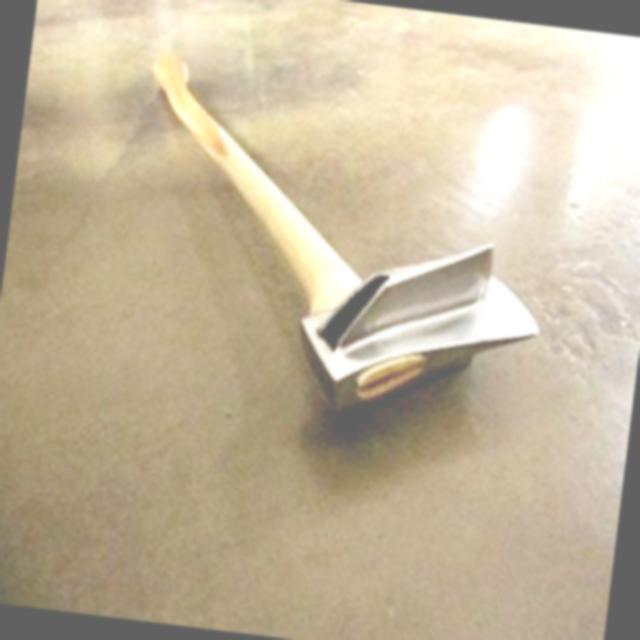ax: (99, 43, 580, 450)
